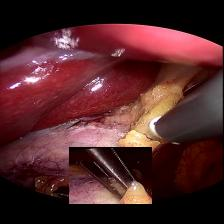Grasper: (69, 146, 152, 203)
Hook: (142, 112, 182, 142)
